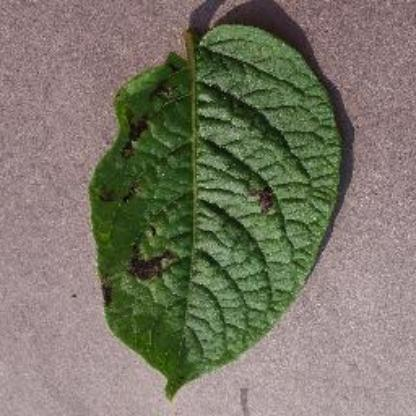Late-Blight: (82, 19, 352, 400)
